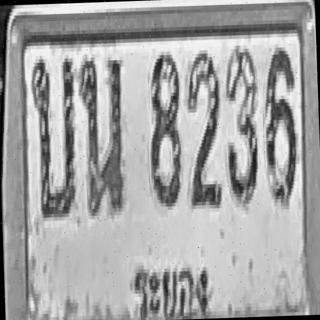A25: (77, 44, 130, 233)
A26: (26, 47, 82, 220)
N02: (182, 35, 224, 224)
N03: (220, 35, 265, 226)
N06: (258, 32, 300, 229)
N08: (141, 38, 188, 220)
P53: (120, 235, 216, 320)
